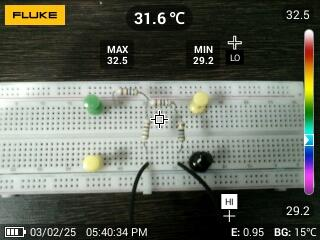resistor: (175, 118, 188, 145), (147, 97, 174, 109), (114, 86, 140, 98), (140, 117, 152, 142)
